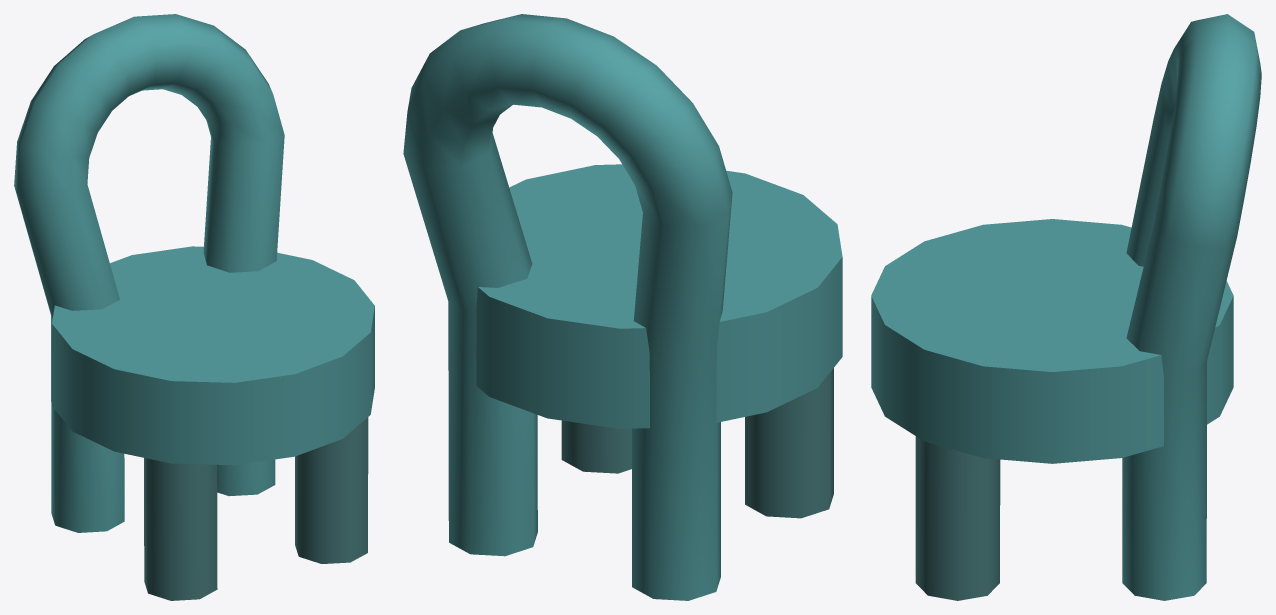
The model's file is chair_12.fbx.
The picture shows the model from 3 angles, left to right: view 1: azimuth 30°, elevation 25°; view 2: azimuth 150°, elevation 25°; view 3: azimuth 270°, elevation 25°; orthographic projection. The views are drawn at different scales.
Visible parts, largest first — view 1: chair_12; view 2: chair_12; view 3: chair_12.
Part boxes in pixels (<box>): chair_12: <box>14,14,374,600</box>; chair_12: <box>403,14,842,600</box>; chair_12: <box>871,14,1261,600</box>.
Bounding box in the file's own units: 51.9 × 81.11 × 55.93.
